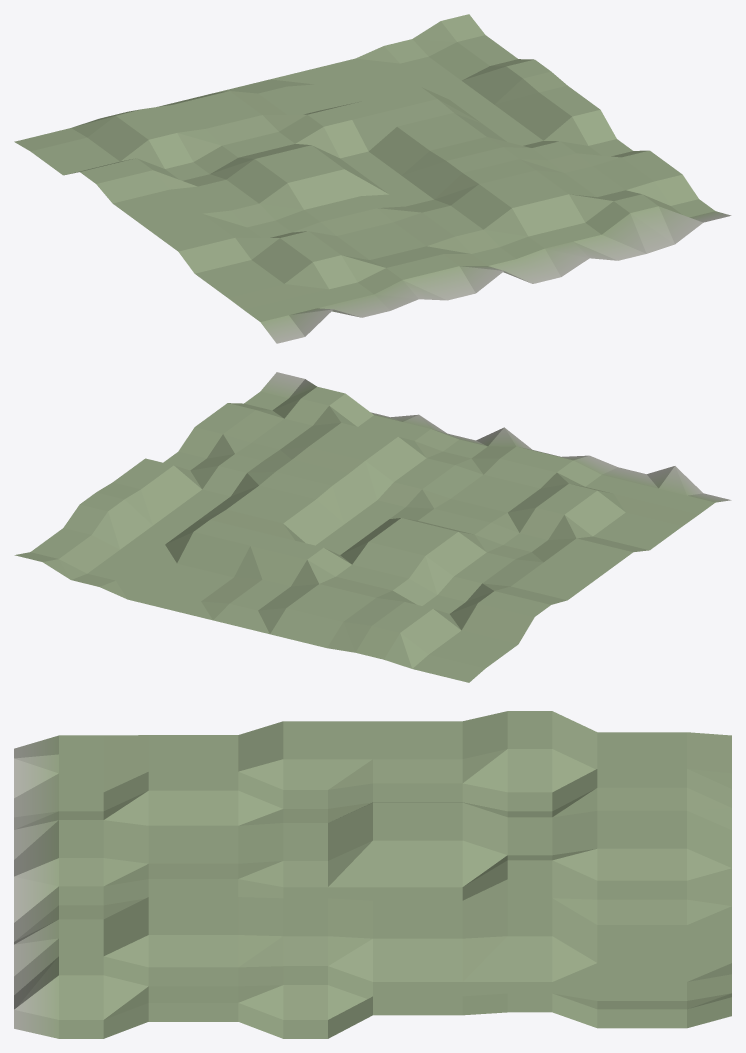
The picture shows the model from 3 angles, top to bottom: view 1: azimuth 30°, elevation 25°; view 2: azimuth 150°, elevation 25°; view 3: azimuth 270°, elevation 25°; orthographic projection. The views are drawn at different scales.
Bounding box in the file's own units: 32 × 2.21 × 32.
